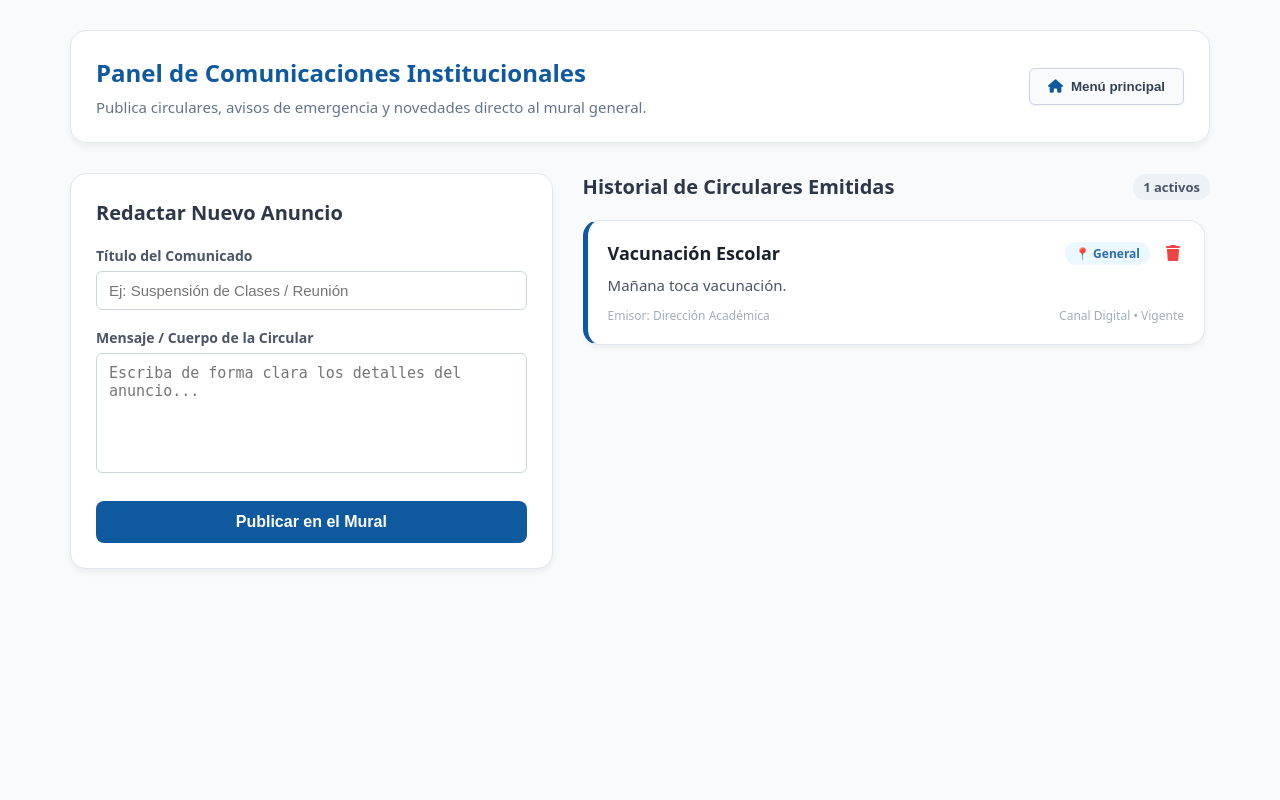
Test: Componente de Gestión de Comunicaciones › debe eliminar un comunicado desde el botón del historial
Click the button named "Eliminar comunicado Vacunación Escolar".
click(1173, 254)  # box [1162, 241, 1184, 266]
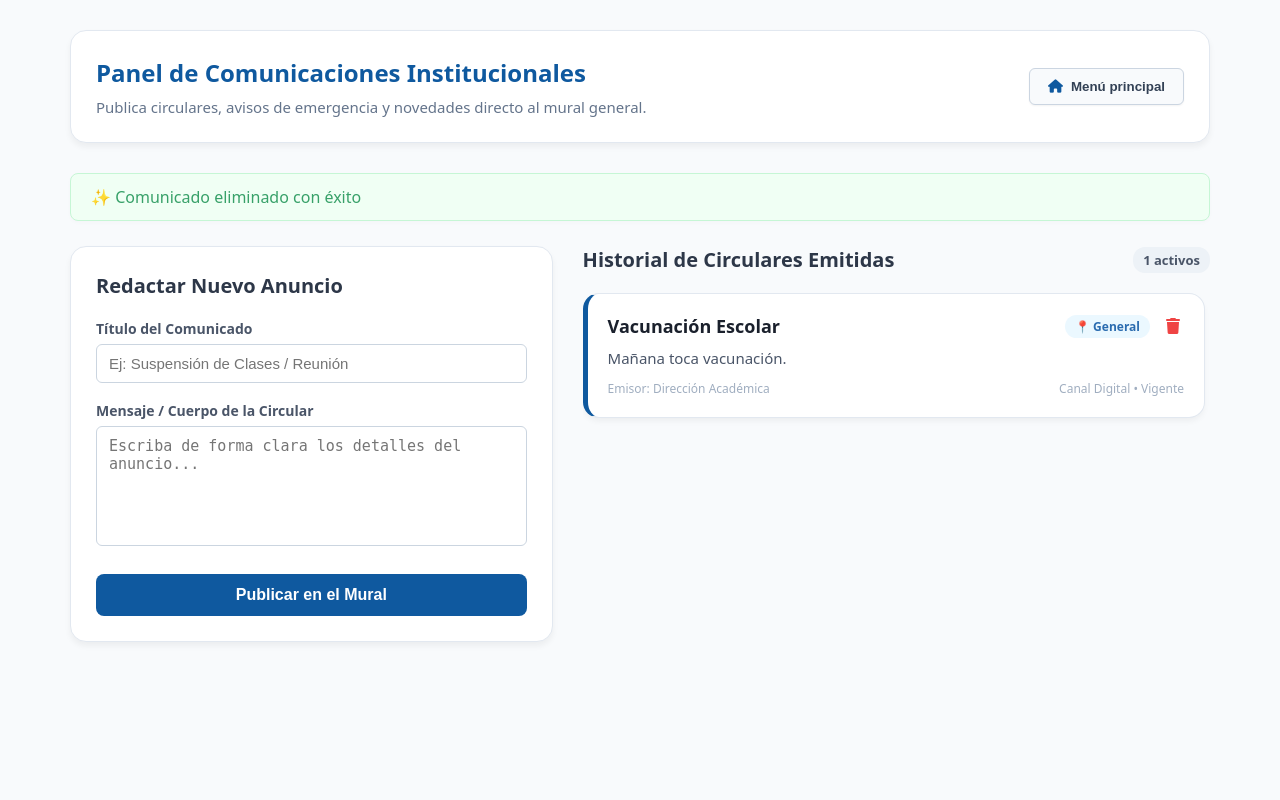
Check: the text "✨ Comunicado eliminado con éxito" is shown, box [70, 173, 1210, 221]
